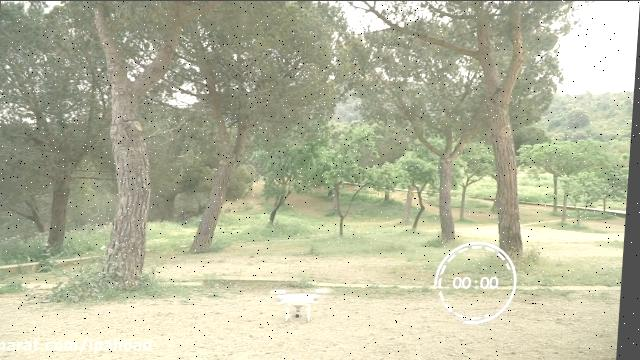drone: (270, 284, 338, 324)
